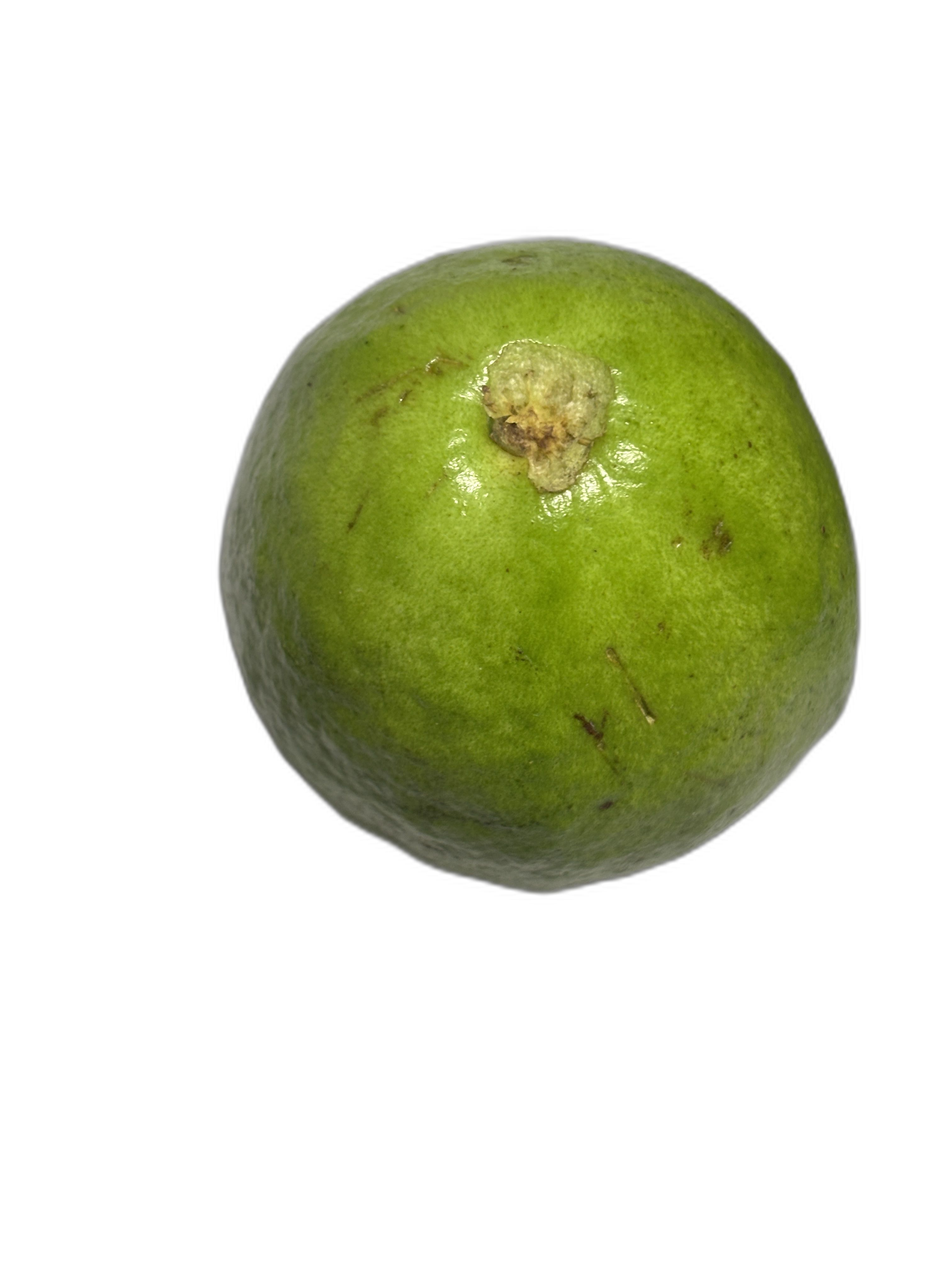guava: (117, 174, 842, 1168)
